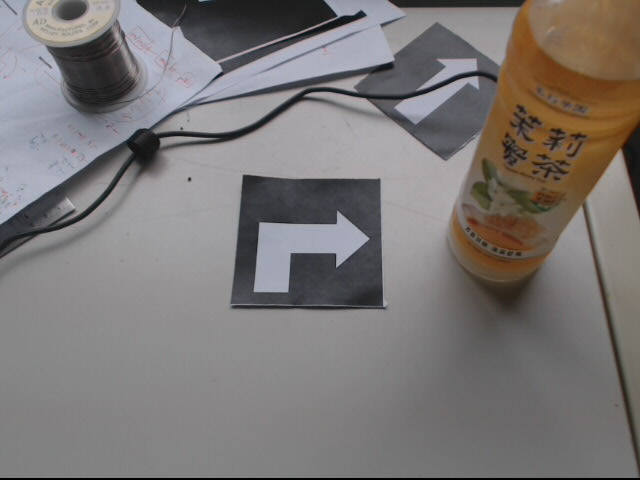right: (231, 171, 387, 308)
